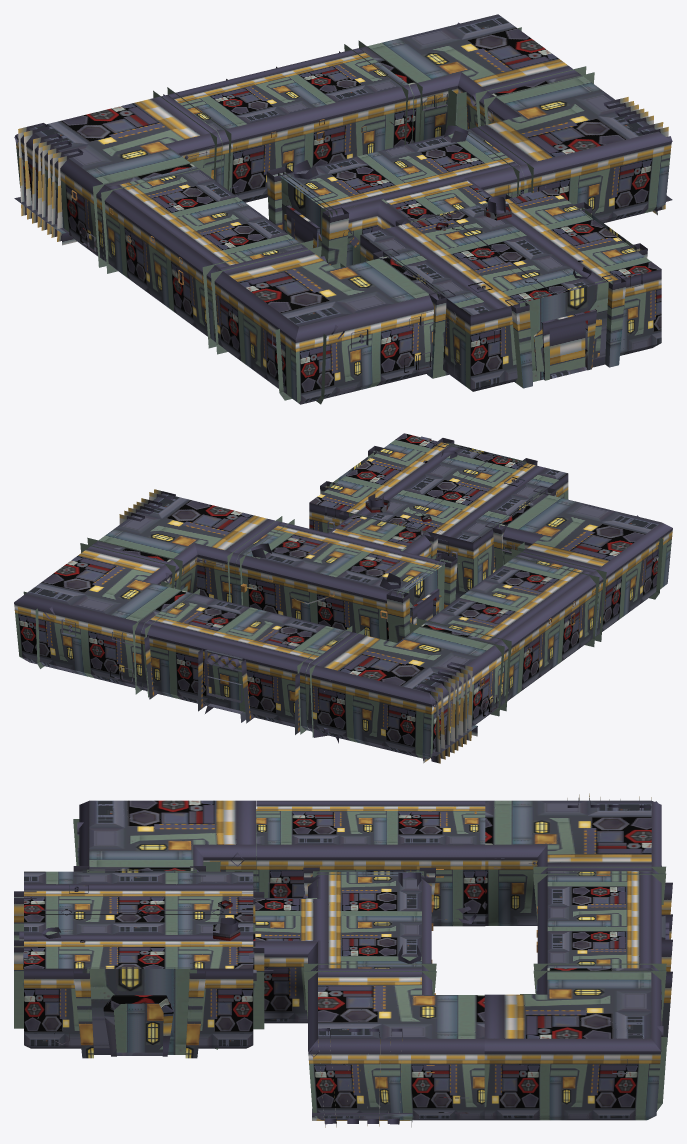
File: Combined_Mesh_root_scene__19_0bed480f__zombies2_diffuse_07_65562b6b_c1f257.obj
The picture shows the model from 3 angles, top to bottom: view 1: azimuth 30°, elevation 25°; view 2: azimuth 150°, elevation 25°; view 3: azimuth 270°, elevation 25°; orthographic projection. The views are drawn at different scales.
Bounding box in the file's own units: 51.83 × 9.64 × 57.53.
Materials: 123 (123 with a texture image).
